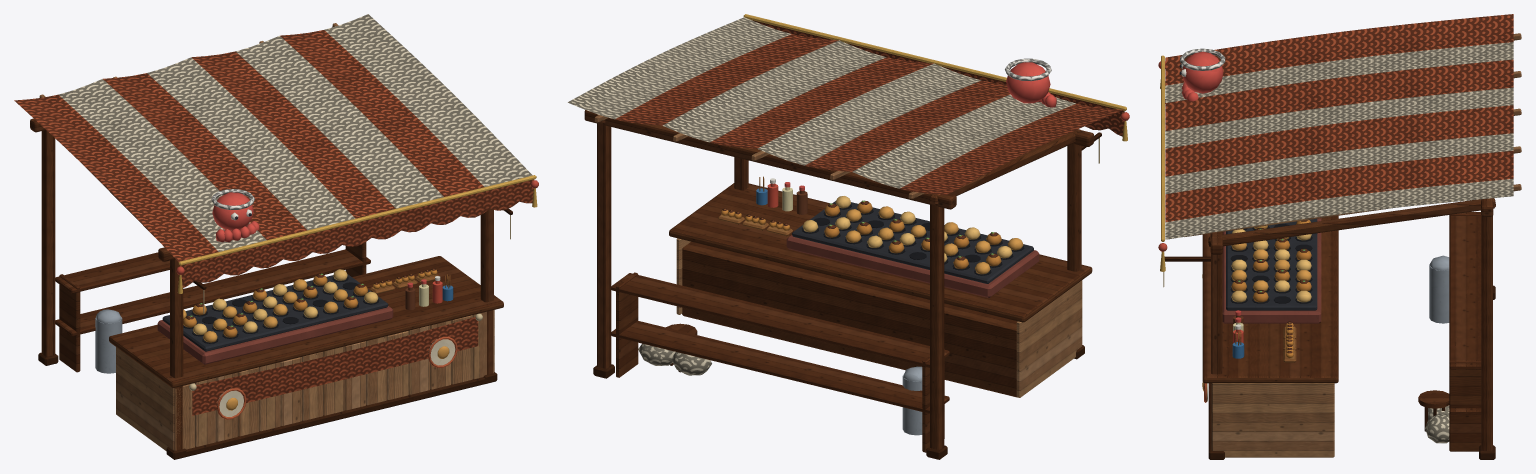
The model's file is env_stall_cook.glb.
The picture shows the model from 3 angles, left to right: view 1: azimuth 30°, elevation 25°; view 2: azimuth 150°, elevation 25°; view 3: azimuth 270°, elevation 25°; orthographic projection. The views are drawn at different scales.
Visible parts, largest first — view 1: env_stall_cook; view 2: env_stall_cook; view 3: env_stall_cook.
Boxes of the visible parts, x1,y1,x2,y2 form: env_stall_cook: (14, 14, 538, 459); env_stall_cook: (567, 14, 1129, 459); env_stall_cook: (1158, 14, 1521, 459).
Bounding box in the file's own units: 5.3 × 3.62 × 4.38.
Materials: 3 (3 with a texture image).
